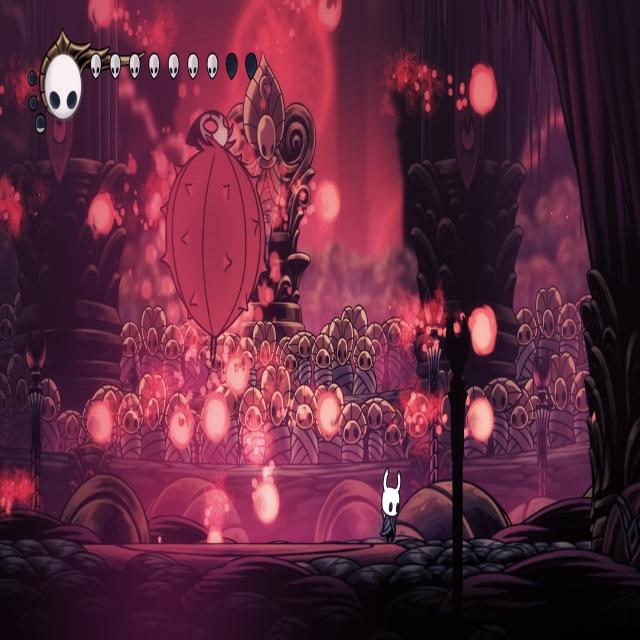Player: (376, 461, 404, 542)
Pufferfish: (156, 108, 273, 368)
Tiny Fireballs: (470, 64, 497, 118), (202, 393, 229, 442), (468, 306, 495, 353), (88, 192, 115, 237), (88, 400, 114, 445), (468, 398, 494, 443), (316, 392, 341, 437), (255, 479, 281, 522), (315, 181, 340, 224), (224, 353, 248, 395), (170, 408, 194, 448), (317, 0, 344, 32), (88, 0, 115, 30)
